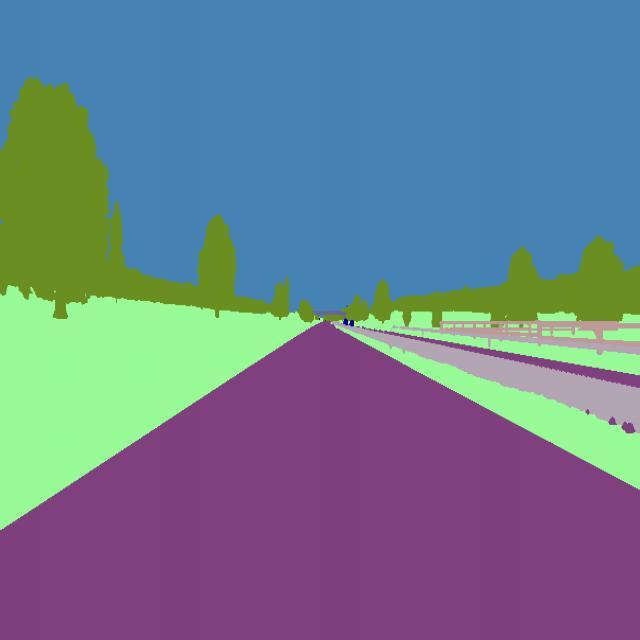safe: (348, 315, 358, 330), (342, 315, 347, 328)
